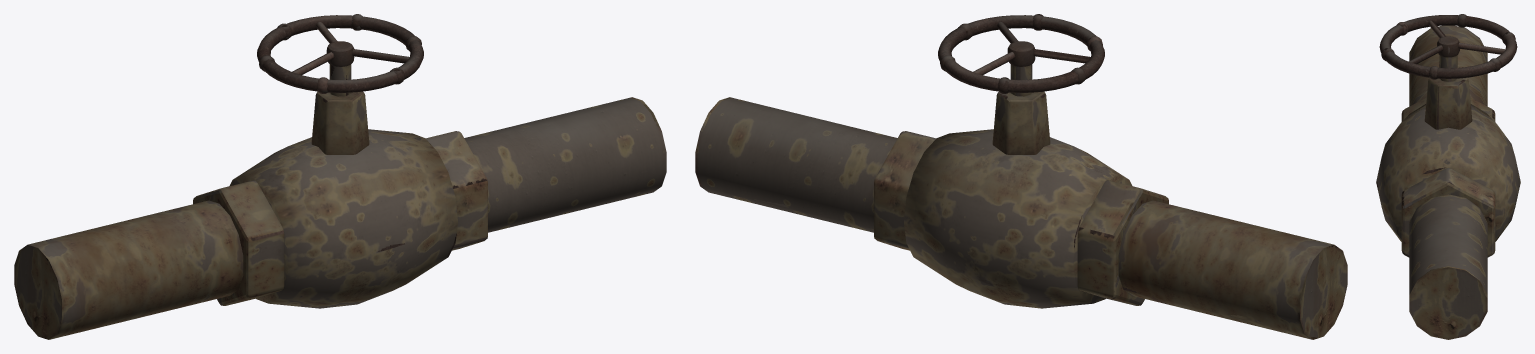
The model's file is Pipe_Small_Valve.fbx.
The picture shows the model from 3 angles, left to right: view 1: azimuth 30°, elevation 25°; view 2: azimuth 150°, elevation 25°; view 3: azimuth 270°, elevation 25°; orthographic projection. The views are drawn at different scales.
Visible parts, largest first — view 1: Pipe_Small_Valve_Mesh; view 2: Pipe_Small_Valve_Mesh; view 3: Pipe_Small_Valve_Mesh.
Boxes of the visible parts, x1,y1,x2,y2 form: Pipe_Small_Valve_Mesh: (14, 14, 666, 339); Pipe_Small_Valve_Mesh: (695, 14, 1347, 339); Pipe_Small_Valve_Mesh: (1376, 14, 1520, 339).
Size of the model in its own units: 0.5 by 0.1999 by 0.126.
